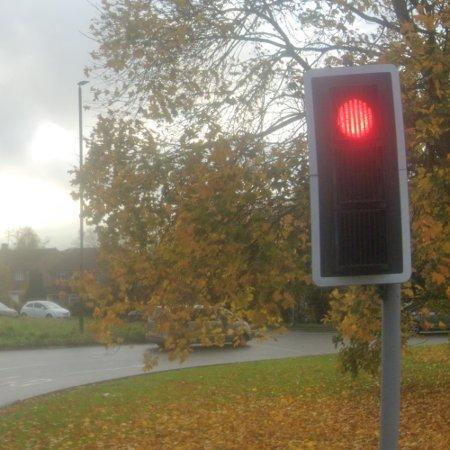traffic lights: (305, 65, 411, 289)
